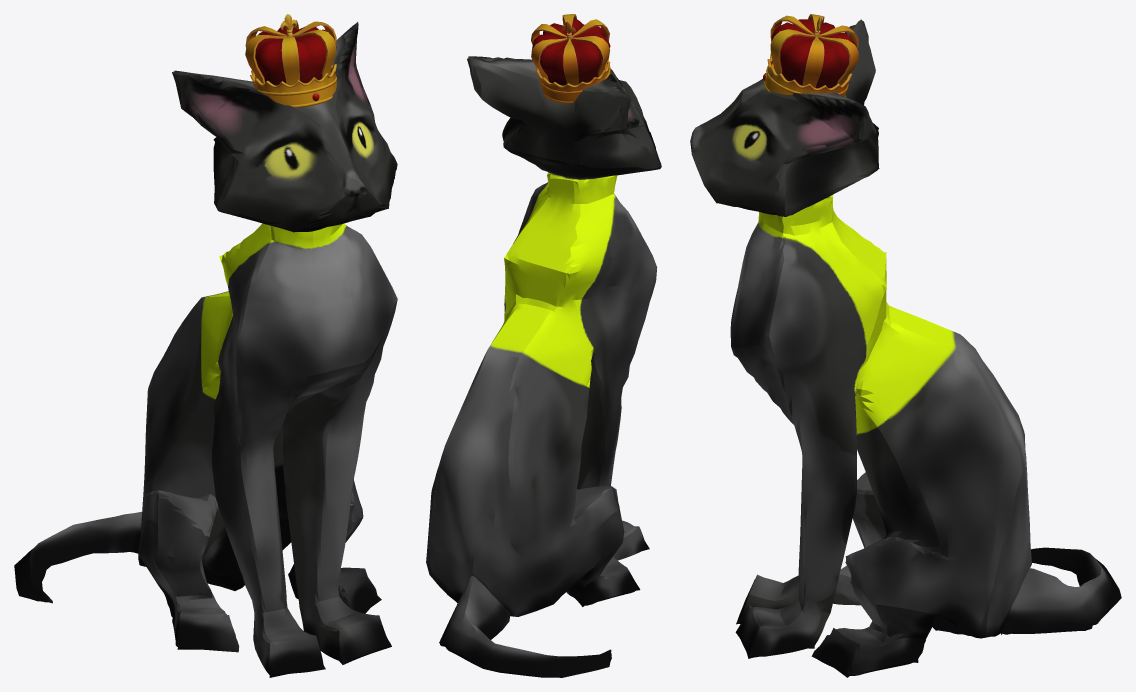
Rendered from asset.glb.
3 views of the same model, side by side, from view 1: azimuth 30°, elevation 25°; view 2: azimuth 150°, elevation 25°; view 3: azimuth 270°, elevation 25° (orthographic). The views are drawn at different scales.
Parts seen in each view (by area): view 1: body, head, RoyalCrown; view 2: body, head, RoyalCrown; view 3: body, head, RoyalCrown.
Part boxes in pixels (x1=…): body: x1=14, y1=223, x2=397, y2=677; head: x1=172, y1=22, x2=397, y2=232; RoyalCrown: x1=245, y1=14, x2=337, y2=107; body: x1=426, y1=172, x2=657, y2=677; head: x1=467, y1=56, x2=661, y2=179; RoyalCrown: x1=531, y1=14, x2=610, y2=103; body: x1=730, y1=195, x2=1121, y2=677; head: x1=690, y1=19, x2=879, y2=216; RoyalCrown: x1=763, y1=14, x2=858, y2=97.
Size of the model in its own units: 0.0367 by 0.0824 by 0.0526.
Materials: 2 (2 with a texture image).
